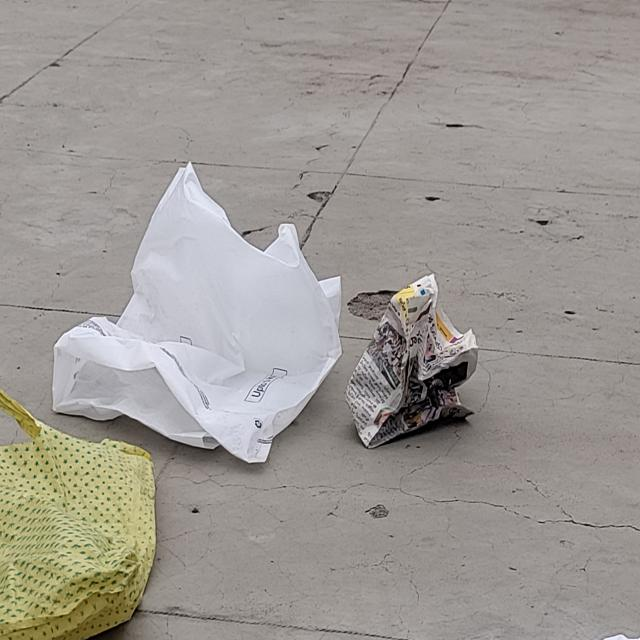paper: (344, 273, 479, 448)
plastic: (50, 160, 341, 463), (0, 388, 156, 640)
